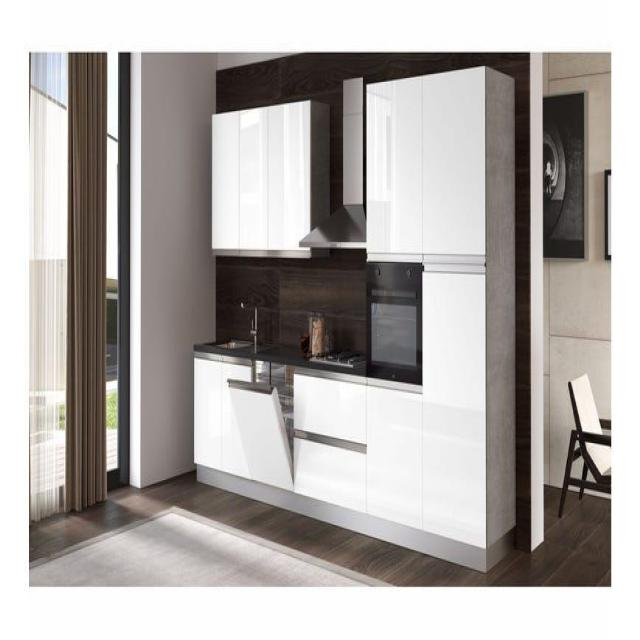dishwasher: (225, 361, 296, 496)
